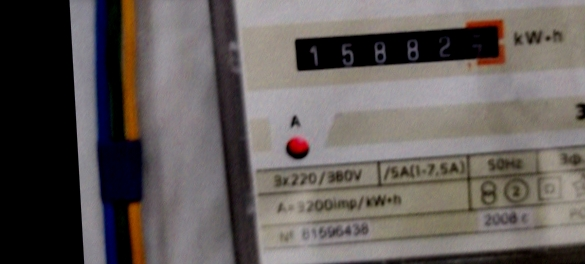1: (306, 42, 322, 67)
2: (436, 32, 452, 57)
5: (338, 39, 356, 65)
7: (469, 38, 484, 58)
8: (371, 38, 389, 65), (404, 35, 420, 61)
screen: (279, 10, 515, 86)
